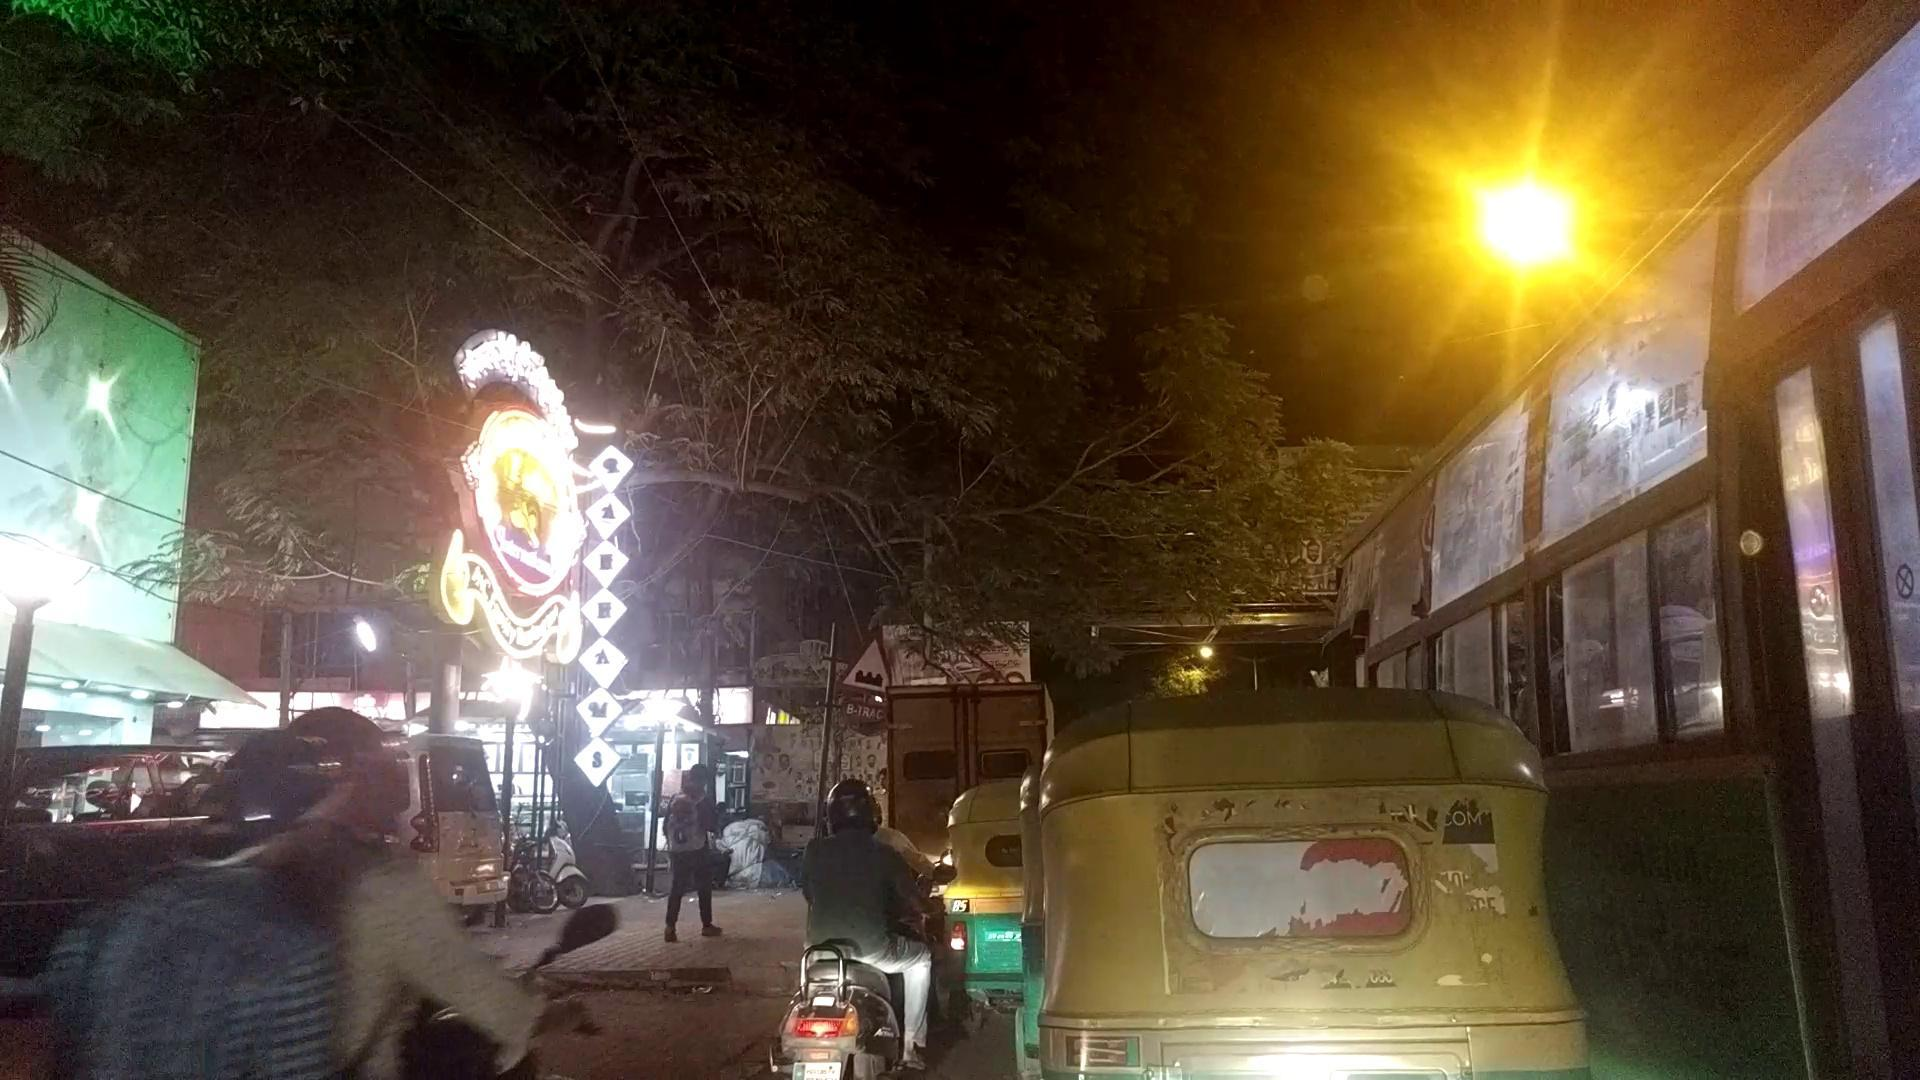on: (11, 82, 1920, 1080)
